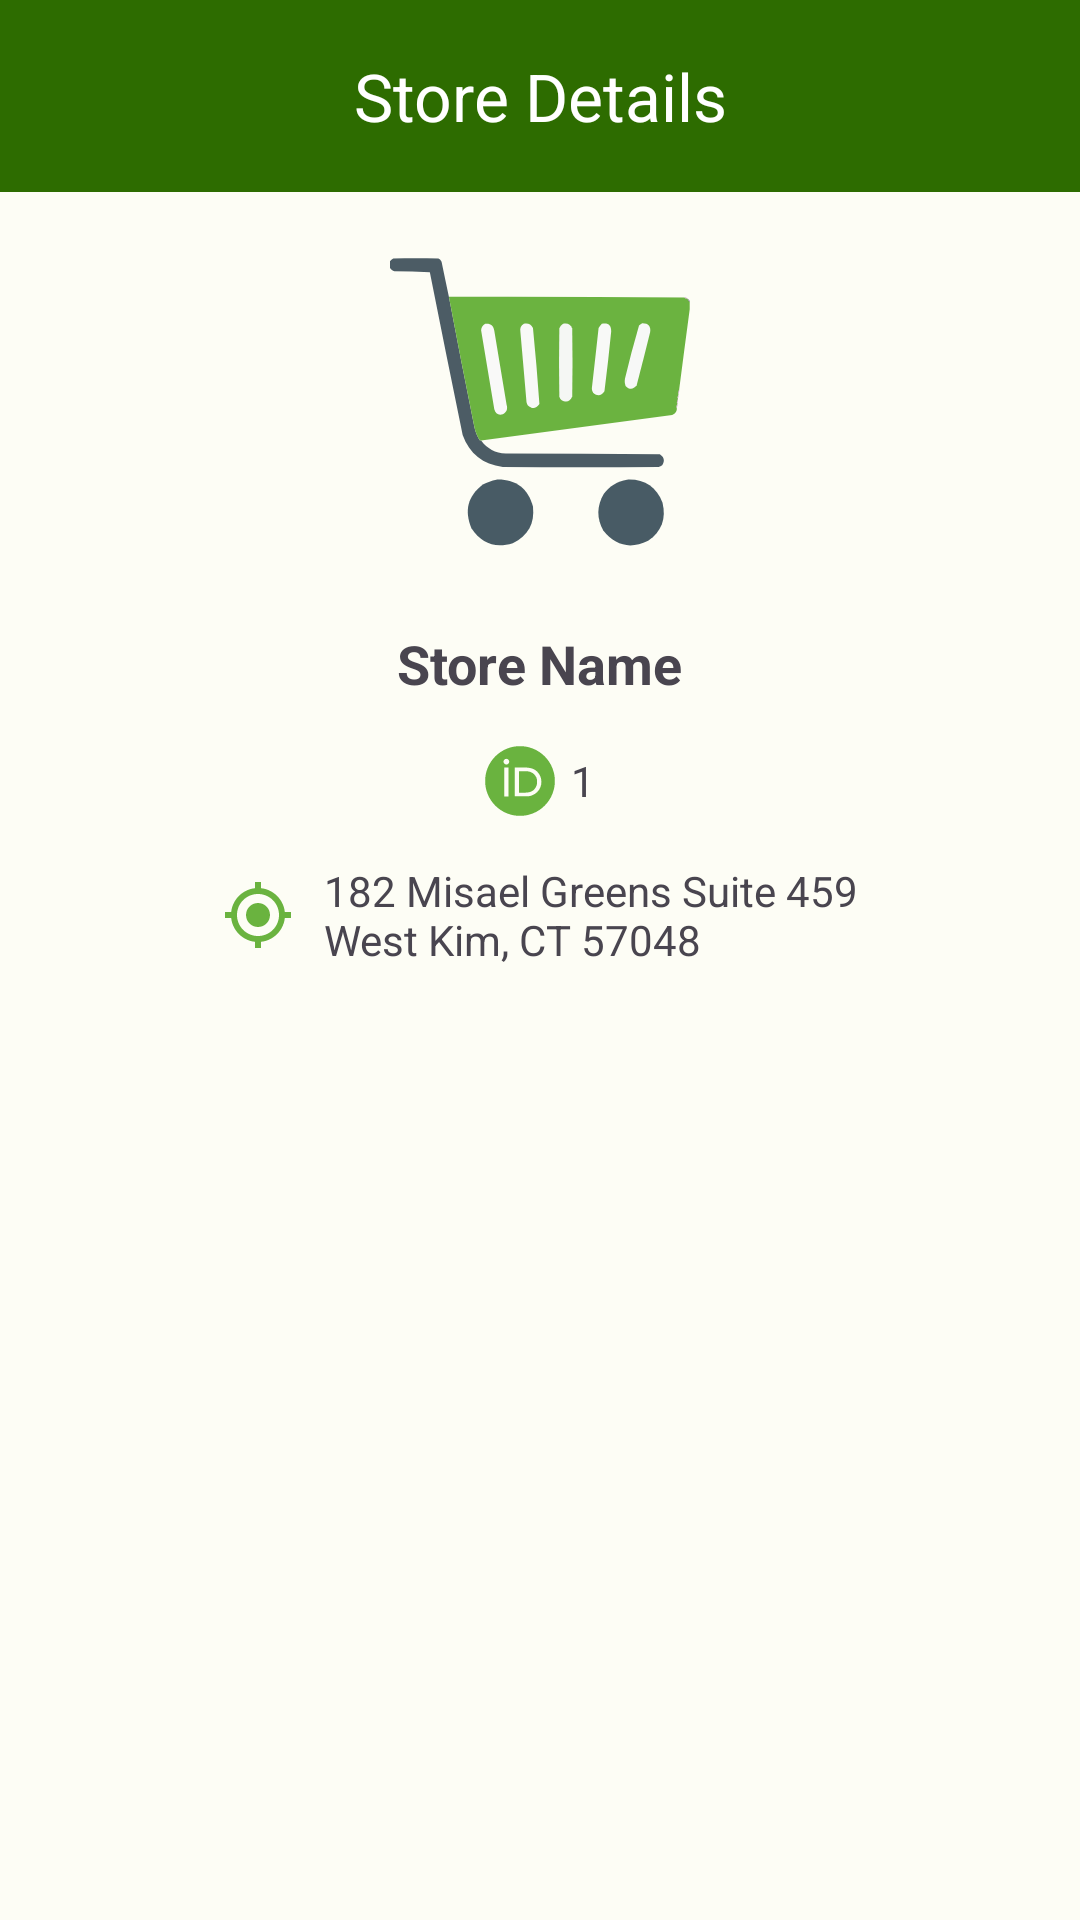

Named icons in this screenshot (1080 x 1920) and their bounding boxes, (x1, y1, x2, y2):
Carts Icon: (390, 258, 690, 546)
